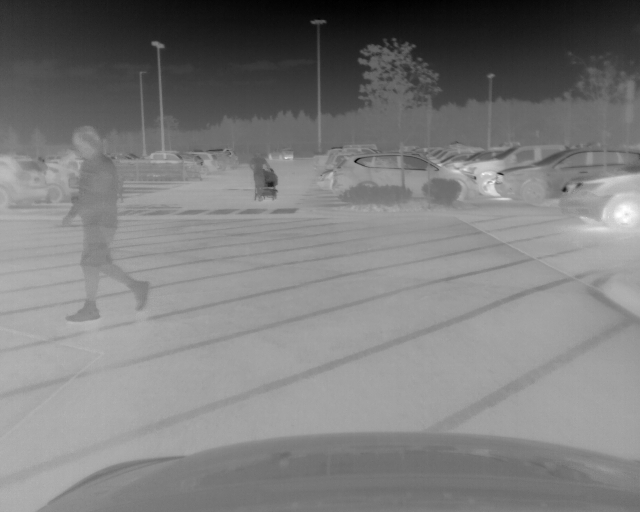car: (492, 145, 640, 203), (329, 152, 477, 201), (462, 141, 566, 199), (556, 159, 640, 230), (1, 154, 51, 209), (44, 160, 84, 207), (145, 149, 202, 168), (192, 151, 220, 175), (219, 149, 240, 172), (266, 148, 296, 162)
people: (58, 123, 151, 322), (248, 151, 274, 200)
